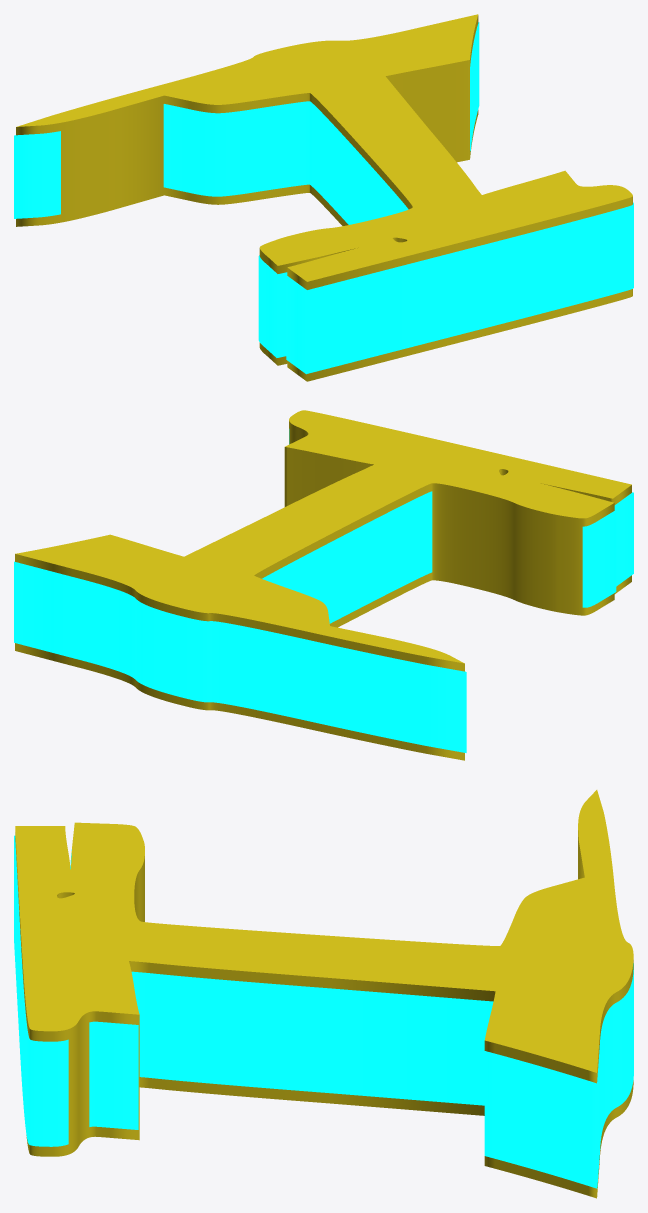
File: LetterI.glb
The picture shows the model from 3 angles, top to bottom: view 1: azimuth 30°, elevation 25°; view 2: azimuth 150°, elevation 25°; view 3: azimuth 270°, elevation 25°; orthographic projection. The views are drawn at different scales.
Visible parts, largest first — view 1: Text, Text.001; view 2: Text, Text.001; view 3: Text, Text.001.
Part boxes in pixels (left/top/right/bottom): Text: left=16, top=14, right=632, bottom=381; Text.001: left=14, top=22, right=633, bottom=374; Text: left=15, top=410, right=631, bottom=760; Text.001: left=14, top=429, right=633, bottom=752; Text: left=15, top=790, right=633, bottom=1198; Text.001: left=14, top=835, right=633, bottom=1188.
Size of the model in its own units: 0.4244 by 0.087 by 0.3896.
